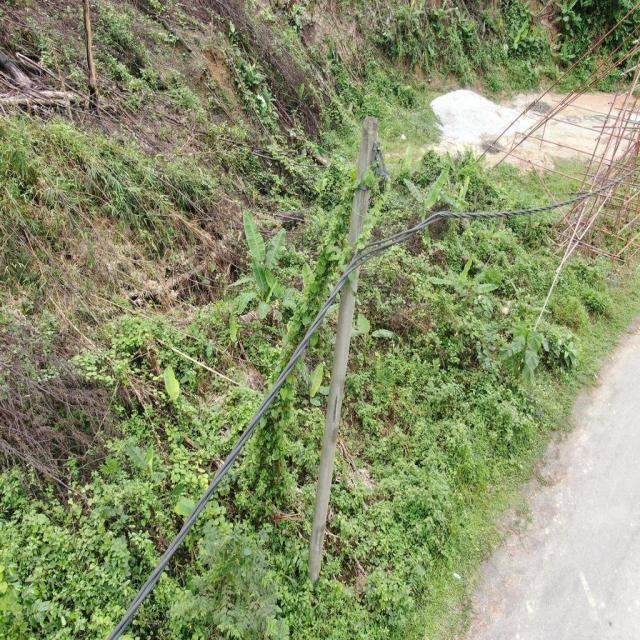critical vegetation: (238, 154, 392, 510)
